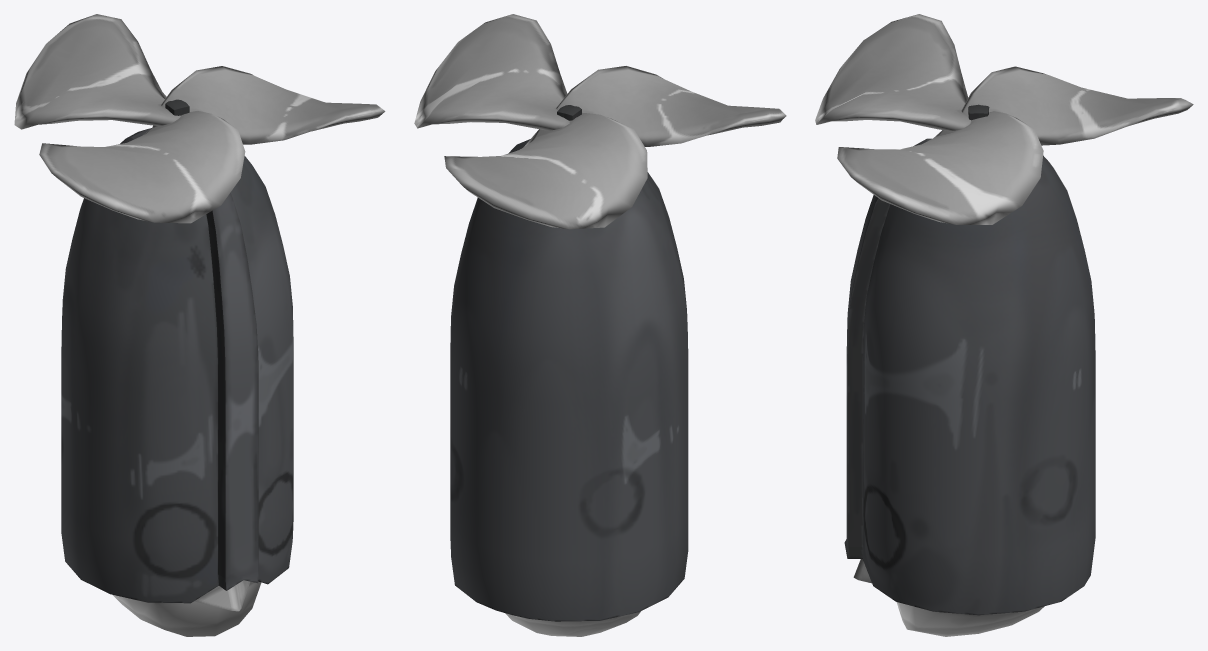
File: DOOHICKEYHEAD.fbx
3 views of the same model, side by side, from view 1: azimuth 30°, elevation 25°; view 2: azimuth 150°, elevation 25°; view 3: azimuth 270°, elevation 25° (orthographic). The views are drawn at different scales.
Visible parts, largest first — view 1: pCube1, pCube12, pCube13, pCube11, pCube2; view 2: pCube1, pCube13, pCube11, pCube12, pCube2; view 3: pCube1, pCube11, pCube12, pCube13, pCube2.
Boxes of the visible parts, x1,y1,x2,y2 form: pCube1: (61, 99, 293, 603); pCube12: (39, 111, 245, 223); pCube13: (14, 14, 180, 129); pCube11: (152, 66, 385, 144); pCube2: (112, 580, 261, 636); pCube1: (450, 105, 688, 621); pCube13: (444, 112, 647, 229); pCube11: (414, 14, 569, 130); pCube12: (556, 66, 786, 146); pCube2: (505, 611, 640, 636); pCube1: (844, 104, 1095, 615); pCube11: (837, 111, 1043, 224); pCube12: (815, 14, 971, 131); pCube13: (961, 66, 1193, 145); pCube2: (853, 559, 1044, 636).
Size of the model in its own units: 1.55 by 2.35 by 1.52.
1 material, 1 textured.
